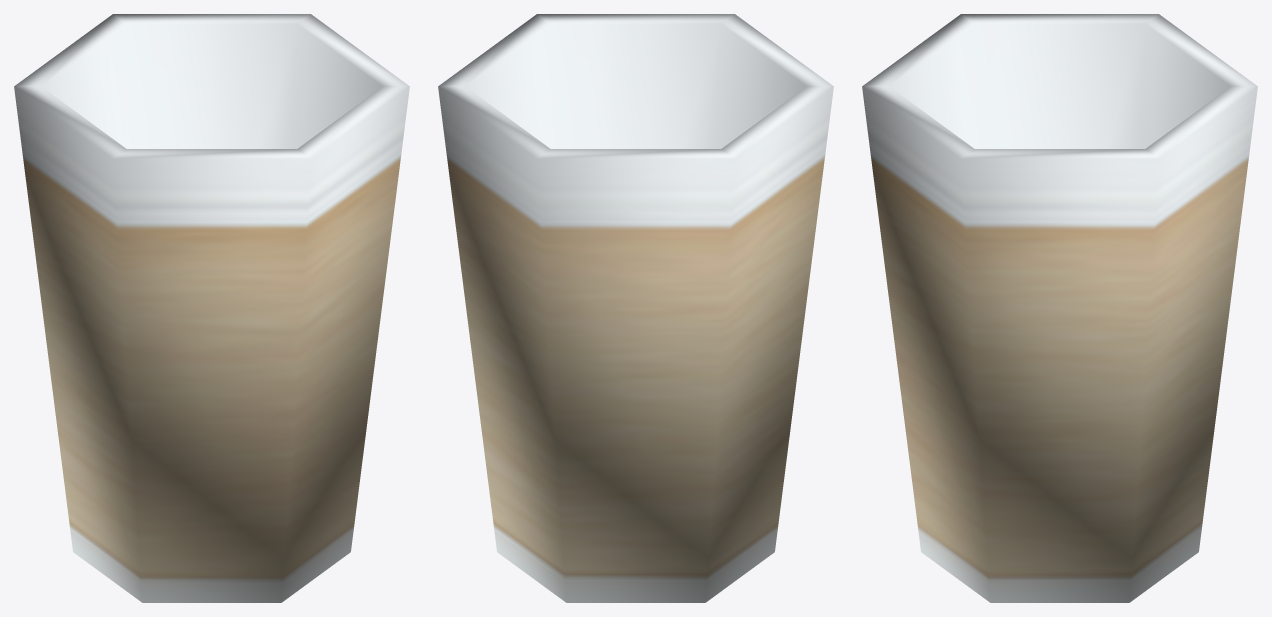
Rendered from coffee_cup.glb.
3 renders of one model, left to right at view 1: azimuth 30°, elevation 25°; view 2: azimuth 150°, elevation 25°; view 3: azimuth 270°, elevation 25°, orthographic.
Parts seen in each view (by area): view 1: Coffee_Cup; view 2: Coffee_Cup; view 3: Coffee_Cup.
Part boxes in pixels (<box>): Coffee_Cup: <box>14,14,409,602</box>; Coffee_Cup: <box>438,14,833,602</box>; Coffee_Cup: <box>862,14,1257,602</box>.
Bounding box in the file's own units: 0.2623 × 0.3931 × 0.3029.
Materials: 1 (1 with a texture image).
